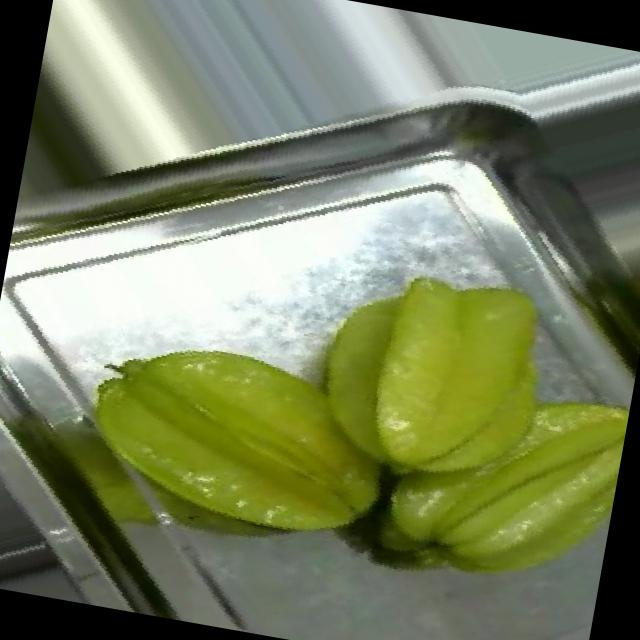fruit: (248, 201, 640, 640), (31, 258, 446, 627)
